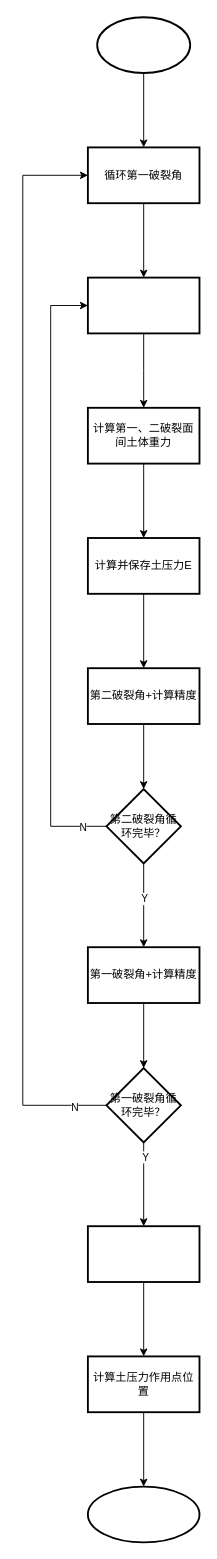
This 217x1559 diagram has some shape labels left out. Here are the shapes that lost their labels. From the top down, the centre of each, then its label:
At point 143,44: "获取设计数据".
At point 143,305: "循环第二破裂角".
At point 143,1253: "保存土压力水平分力最大值时的结果作为主动土压力".
At point 143,1514: "END".
